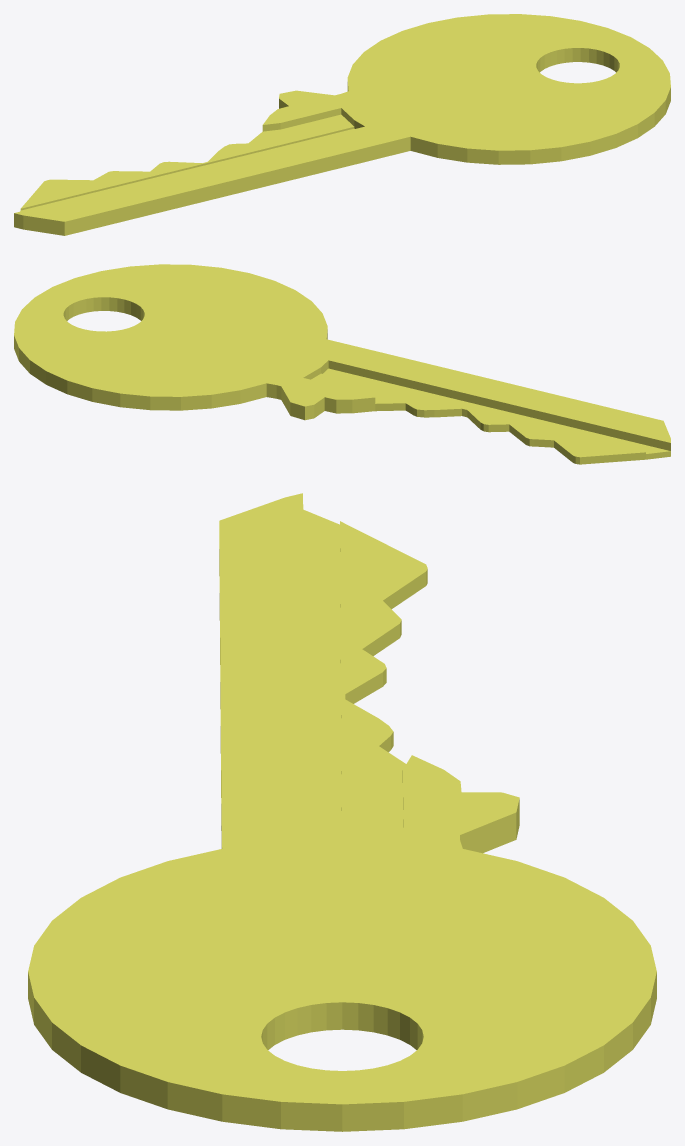
File: Key.fbx
3 renders of one model, top to bottom at view 1: azimuth 30°, elevation 25°; view 2: azimuth 150°, elevation 25°; view 3: azimuth 270°, elevation 25°, orthographic. The views are drawn at different scales.
Visible parts, largest first — view 1: Key; view 2: Key; view 3: Key.
Boxes of the visible parts, x1,y1,x2,y2 form: Key: (14,14,670,235); Key: (14,264,670,464); Key: (28,493,656,1131).
Bounding box in the file's own units: 4.58 × 0.0958 × 1.99.
